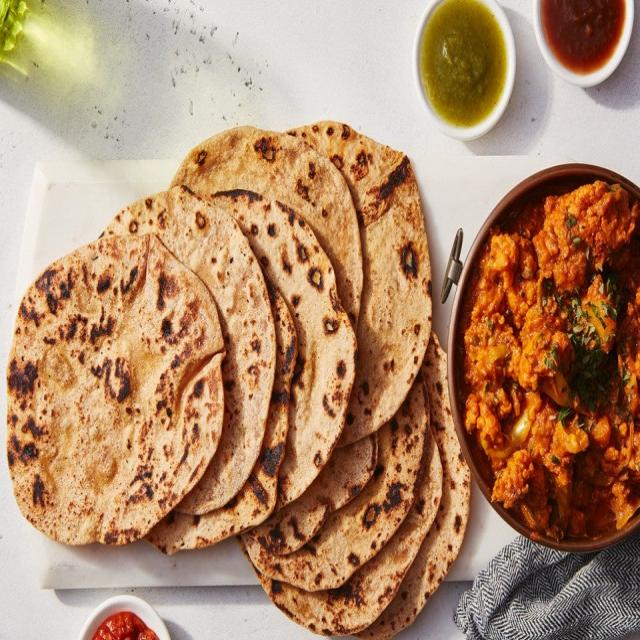ROTI: (8, 233, 225, 544), (198, 186, 357, 499), (292, 122, 431, 440), (153, 189, 276, 513), (241, 380, 429, 590), (171, 128, 363, 331), (359, 333, 470, 639), (276, 432, 442, 633), (254, 436, 376, 553)
